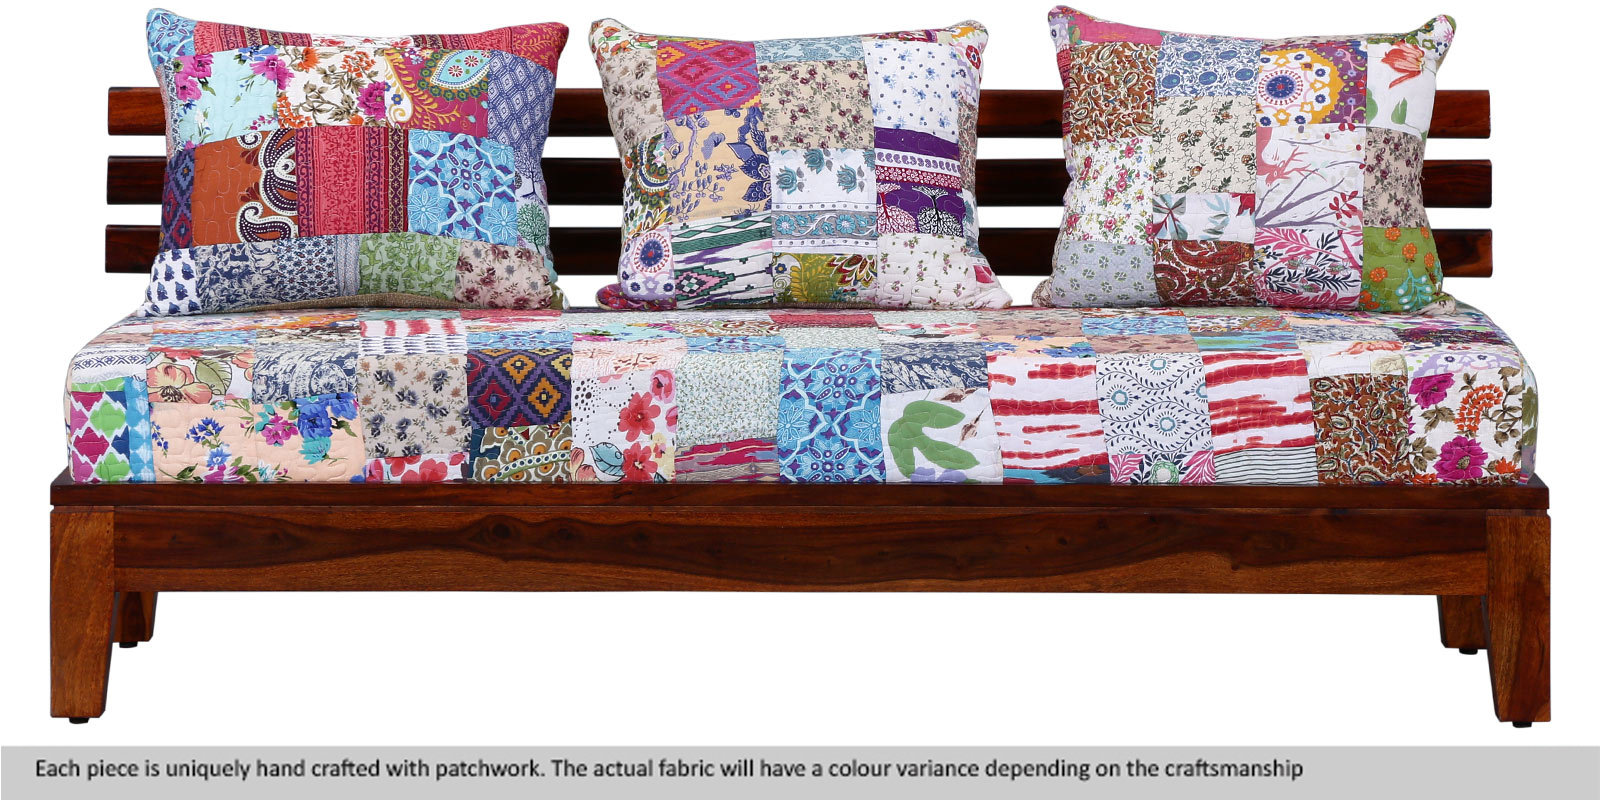Hayden Three Seater Sofa in Honey Oak Finish by Bohemiana: (45, 8, 1585, 747)
